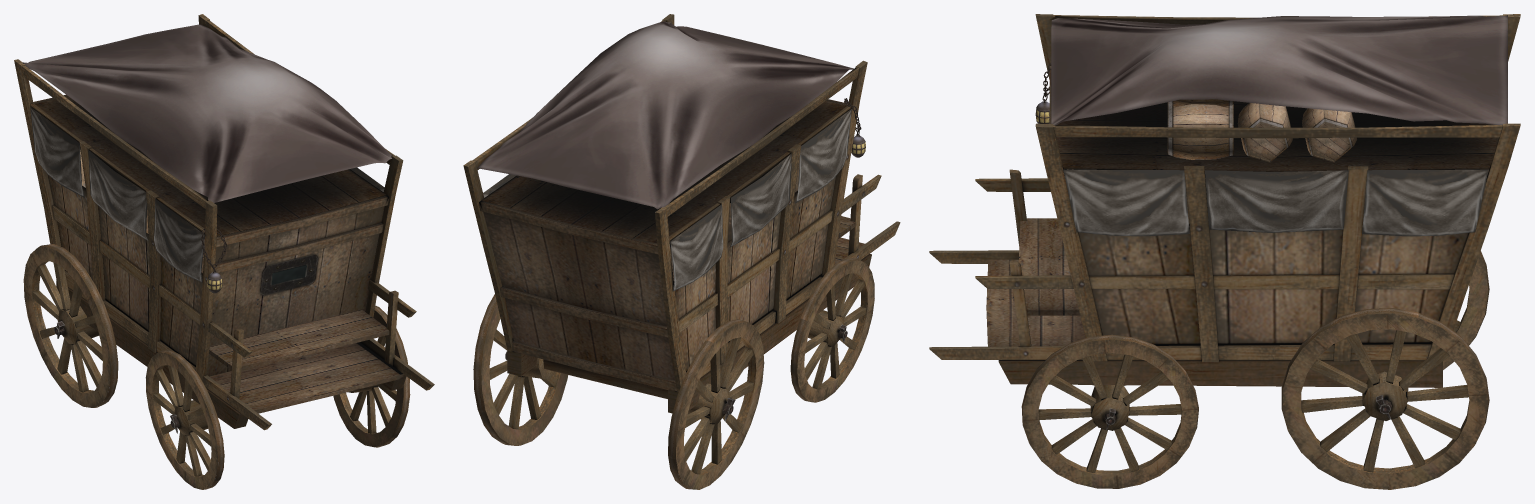
Rendered from Cart.FBX.
The picture shows the model from 3 angles, left to right: view 1: azimuth 30°, elevation 25°; view 2: azimuth 150°, elevation 25°; view 3: azimuth 270°, elevation 25°; orthographic projection. The views are drawn at different scales.
Parts seen in each view (by area): view 1: Cart; view 2: Cart; view 3: Cart.
Part boxes in pixels (x1,y1,x2,y2): Cart: (14, 14, 434, 489); Cart: (463, 14, 900, 489); Cart: (929, 14, 1520, 489).
Bounding box in the file's own units: 5.29 × 8.09 × 10.27.
Materials: 1 (1 with a texture image).
